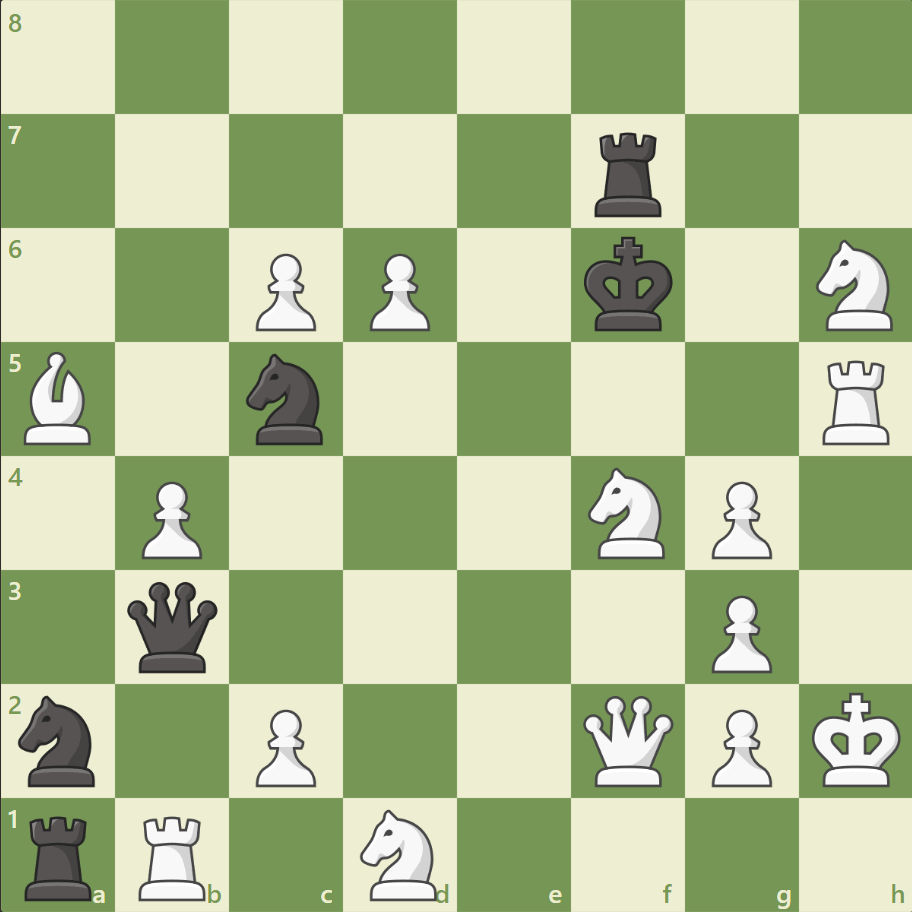B: (17, 347, 101, 449)
K: (806, 685, 906, 793)
N: (351, 802, 449, 904), (806, 234, 903, 337), (579, 461, 676, 564)
P: (247, 246, 322, 337), (133, 473, 208, 564), (701, 473, 776, 564), (701, 586, 776, 677), (247, 700, 322, 791), (701, 700, 776, 791), (361, 246, 435, 337)
Q: (578, 690, 677, 789)
R: (814, 352, 897, 449), (133, 806, 215, 904)
k: (579, 231, 679, 339)
n: (11, 688, 108, 791), (238, 348, 335, 450)
q: (124, 576, 223, 676)
r: (19, 806, 102, 904), (587, 125, 670, 222)
